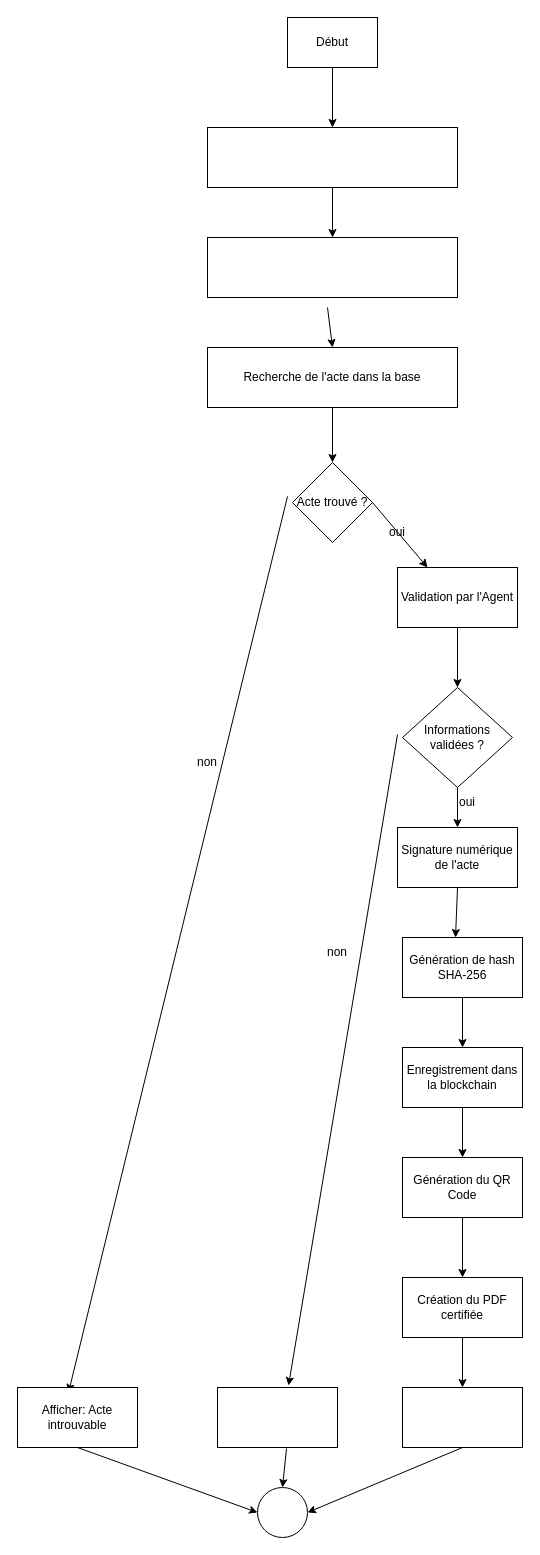
Some shapes in this 540 by 1555 pixel diagram are drawn without their labels. Here are the shapes that lost their labels. From the top down, the box of each, then its label:
(206, 126, 458, 188): Citoyen fait une demande d'acte
(206, 236, 458, 298): Système reçoit la demande
(216, 1386, 338, 1448): Rejet de la demande
(402, 1386, 522, 1448): Envoi du document au citoyen
(256, 1486, 308, 1538): fin
